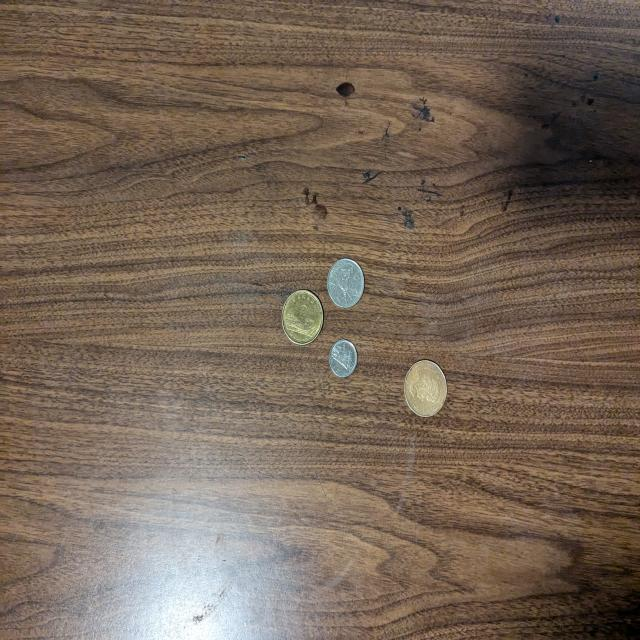dime: (331, 340, 357, 378)
loonie: (404, 359, 448, 419), (282, 290, 324, 346)
quarter: (326, 260, 364, 310)
